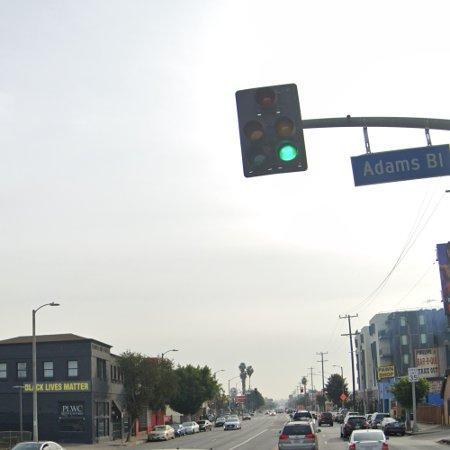traffic lights: (237, 83, 307, 178)
